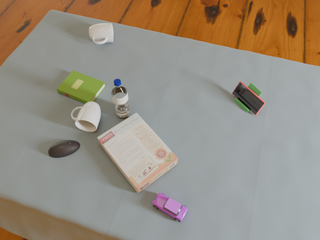book: (57, 70, 106, 103)
bottle: (111, 79, 130, 118)
box: (97, 113, 178, 193)
cup: (71, 101, 101, 132), (89, 23, 113, 44)
mouse: (48, 140, 80, 158)
phone: (232, 81, 265, 115)
toy_car: (153, 193, 188, 222)
